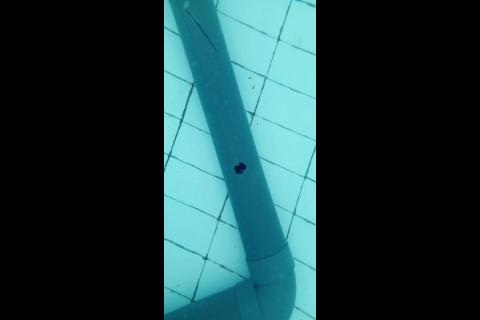kebocoran: (232, 160, 247, 176)
keretakan: (184, 8, 219, 54)
